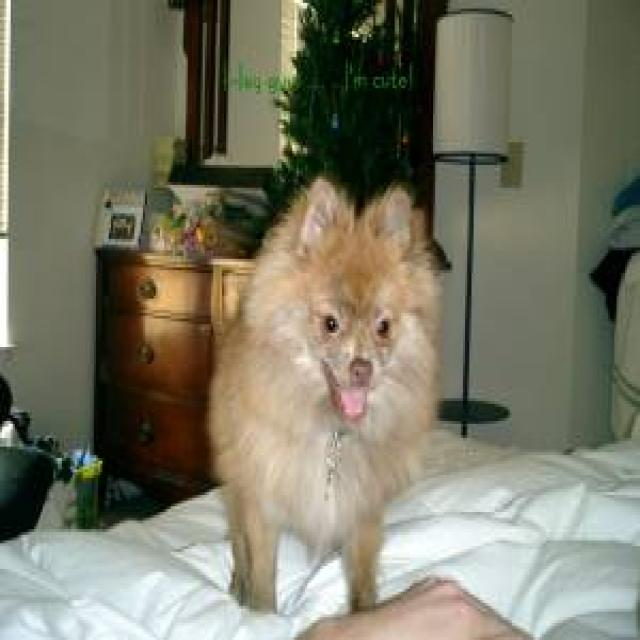dog-pomeranian: (207, 171, 448, 626)
